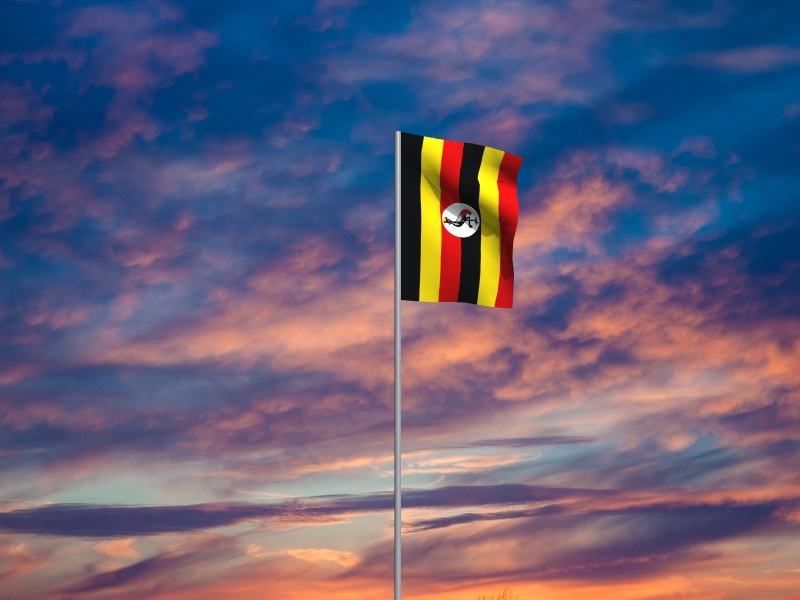ug: (402, 133, 524, 309)
